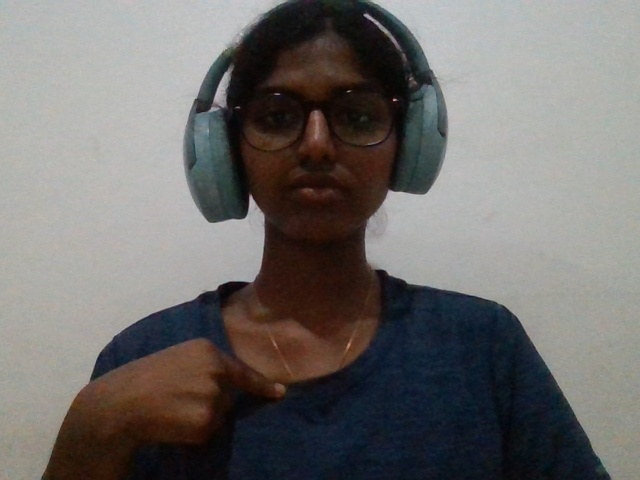Me: (40, 332, 288, 480)
